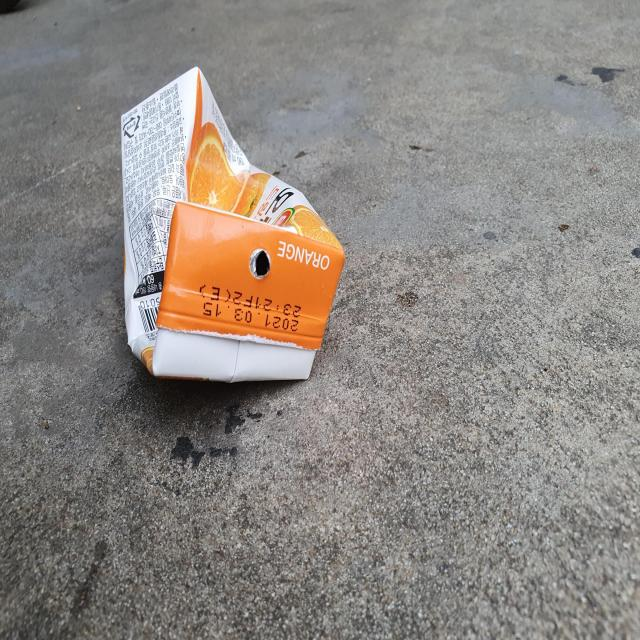paperpack: (121, 68, 344, 382)
